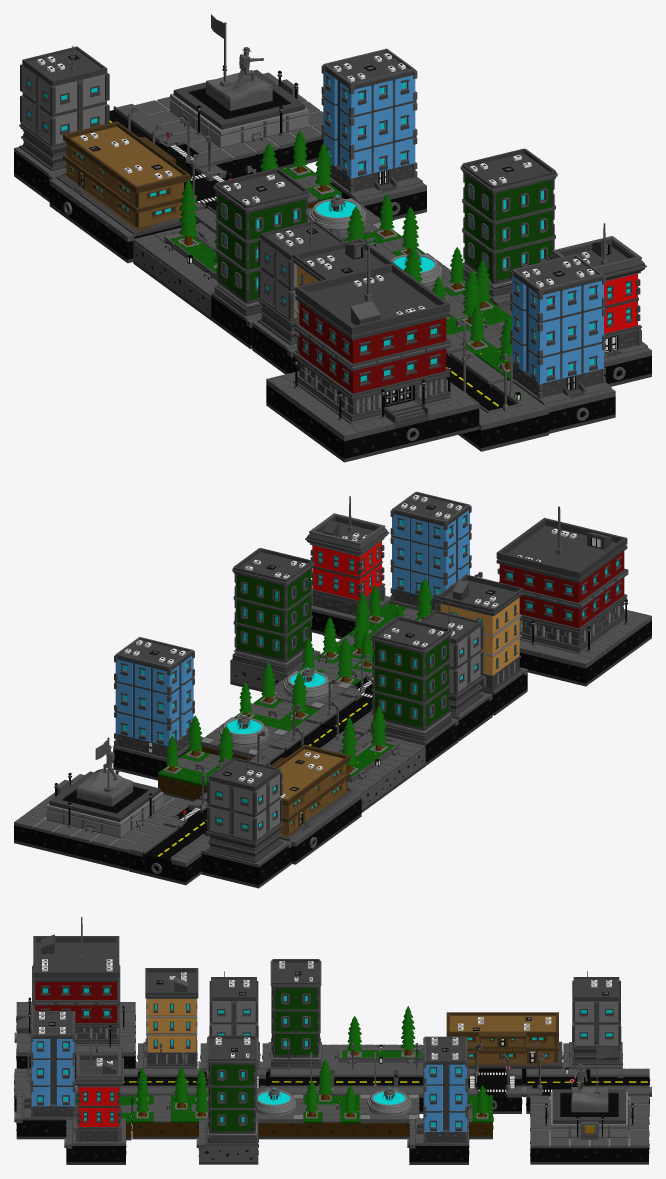
File: City.fbx
3 renders of one model, top to bottom at view 1: azimuth 30°, elevation 25°; view 2: azimuth 150°, elevation 25°; view 3: azimuth 270°, elevation 25°, orthographic. The views are drawn at different scales.
Visible parts, largest first — view 1: Medium Building 1 Base, Building 2 Base, Building 2 Base.001, Statue Base, Building 6 Base, Building 5 Base.001, Building 5 Base, Building 4 Base.001, Building 1 Base, Building 4 Base, Park Base, Street End Base (+12 smaller); view 2: Medium Building 1 Base, Statue Base, Building 2 Base.001, Building 5 Base, Building 5 Base.001, Building 4 Base.001, Building 2 Base, Building 1 Base, Building 6 Base, Building 3 Base, Park Base, Building 4 Base (+13 smaller); view 3: Medium Building 1 Base, Statue Base, Building 5 Base.001, Building 2 Base.001, Building 2 Base, Building 1 Base, Building 5 Base, Building 6 Base, Building 3 Base, Building 4 Base.001, Building 4 Base, Park Base (+16 smaller).
Boxes of the visible parts, box(x1,y1,x2,y2) form: Medium Building 1 Base: box(266, 244, 479, 462); Building 2 Base: box(509, 254, 615, 433); Building 2 Base.001: box(321, 48, 426, 219); Statue Base: box(134, 14, 323, 178); Building 6 Base: box(49, 121, 190, 263); Building 5 Base.001: box(460, 148, 557, 316); Building 5 Base: box(211, 168, 310, 349); Building 4 Base.001: box(14, 46, 109, 201); Building 1 Base: box(547, 223, 651, 386); Building 4 Base: box(252, 220, 344, 374); Park Base: box(133, 179, 217, 320); Street End Base: box(458, 352, 548, 451); Medium Building 1 Base: box(496, 506, 651, 686); Statue Base: box(14, 737, 192, 870); Building 2 Base.001: box(113, 637, 203, 780); Building 5 Base: box(368, 616, 458, 765); Building 5 Base.001: box(230, 548, 320, 691); Building 4 Base.001: box(201, 749, 291, 888); Building 2 Base: box(389, 491, 471, 612); Building 1 Base: box(305, 496, 390, 639); Building 6 Base: box(270, 744, 361, 864); Building 3 Base: box(437, 574, 527, 715); Park Base: box(340, 706, 425, 812); Building 4 Base: box(420, 602, 492, 740); Medium Building 1 Base: box(14, 917, 135, 1068); Statue Base: box(530, 1045, 649, 1164); Building 5 Base.001: box(196, 1035, 258, 1164); Building 2 Base.001: box(407, 1036, 469, 1164); Building 2 Base: box(14, 1011, 75, 1139); Building 1 Base: box(64, 1039, 126, 1164); Building 5 Base: box(260, 959, 321, 1086); Building 6 Base: box(446, 1012, 562, 1086); Building 3 Base: box(135, 968, 198, 1085); Building 4 Base.001: box(562, 971, 622, 1087); Building 4 Base: box(198, 971, 260, 1086); Park Base: box(322, 1006, 424, 1087).
Bounding box in the file's own units: 2022 × 1085 × 4296.
